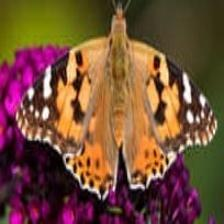butterfly: (16, 4, 218, 201)
